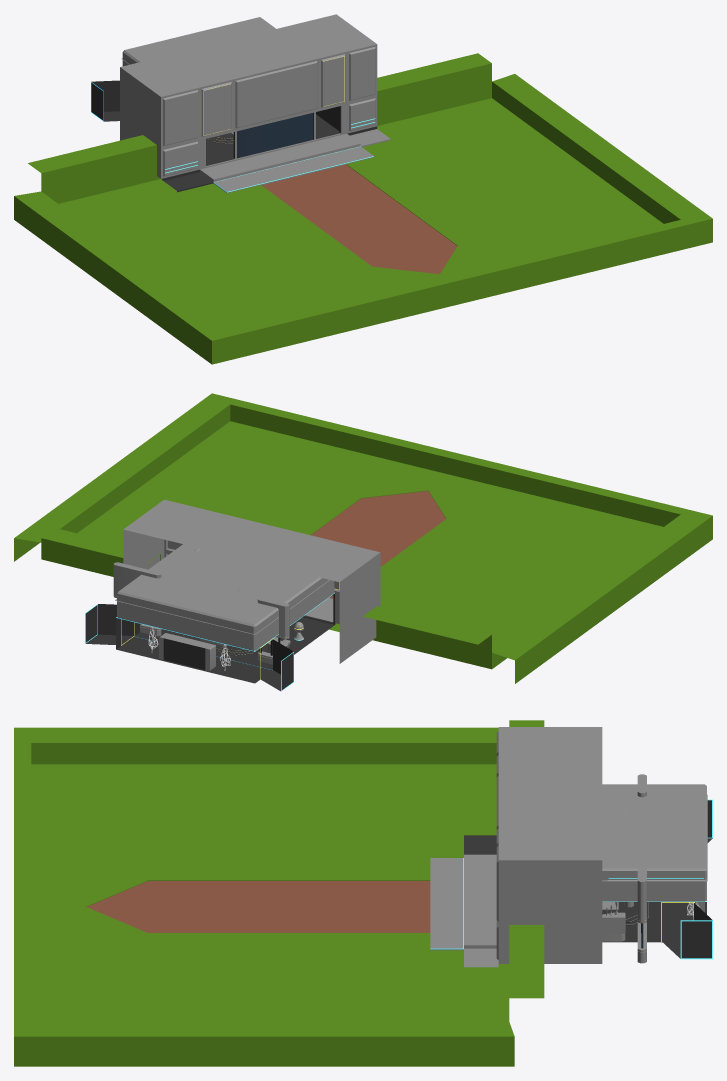
File: house.FBX
The picture shows the model from 3 angles, top to bottom: view 1: azimuth 30°, elevation 25°; view 2: azimuth 150°, elevation 25°; view 3: azimuth 270°, elevation 25°; orthographic projection. The views are drawn at different scales.
Visible parts, largest first — view 1: Plane006, Plane003, glass001; view 2: Plane006, Plane003, Plane004, law003, law005; view 3: Plane006, Plane003, law003.
Boxes of the visible parts, bbox=[...] form: Plane006: bbox=[14, 53, 712, 364]; Plane003: bbox=[91, 14, 390, 192]; glass001: bbox=[237, 113, 313, 157]; Plane006: bbox=[14, 393, 712, 683]; Plane003: bbox=[85, 499, 380, 691]; Plane004: bbox=[159, 633, 215, 670]; law003: bbox=[113, 562, 161, 597]; law005: bbox=[257, 597, 289, 639]; Plane006: bbox=[14, 720, 544, 1066]; Plane003: bbox=[430, 727, 712, 967]; law003: bbox=[637, 853, 646, 923].
Bounding box in the file's own units: 1447 × 256 × 1382.
